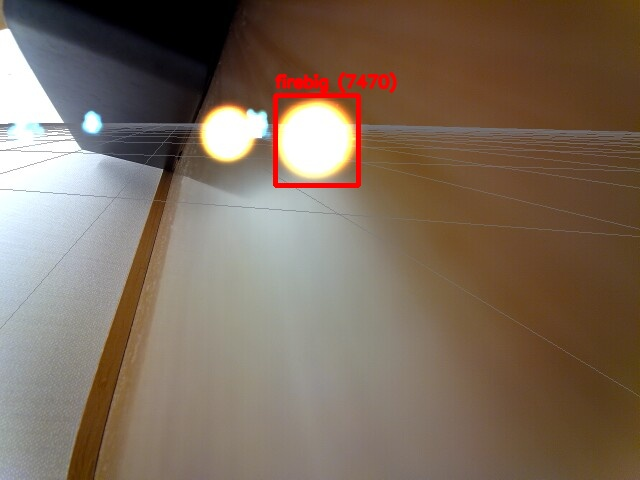firebig: (275, 95, 358, 185)
